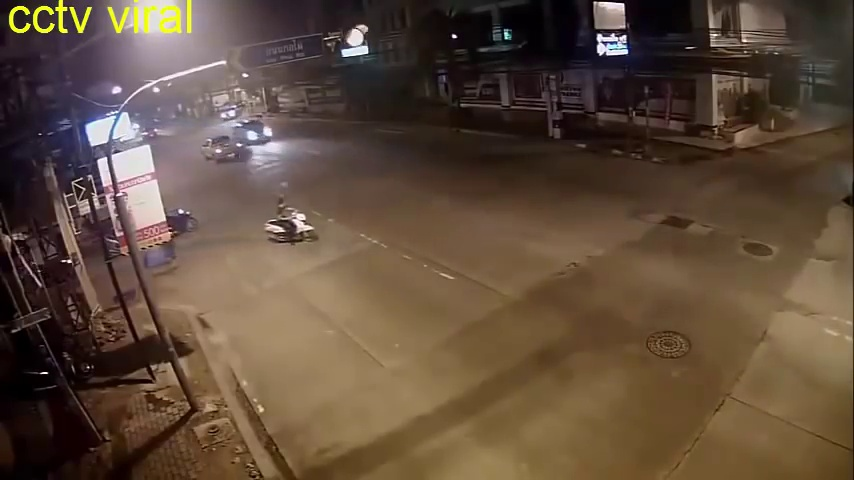car: (232, 120, 276, 142), (202, 134, 239, 160)
motorbike: (264, 198, 316, 245)
